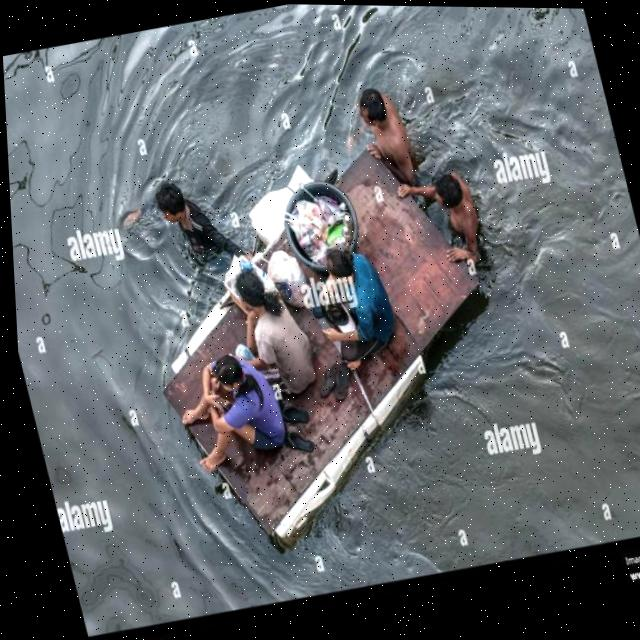civilian: (215, 244, 351, 415), (163, 346, 297, 491), (130, 158, 245, 280), (315, 237, 413, 375), (338, 67, 425, 191), (423, 163, 495, 267)
